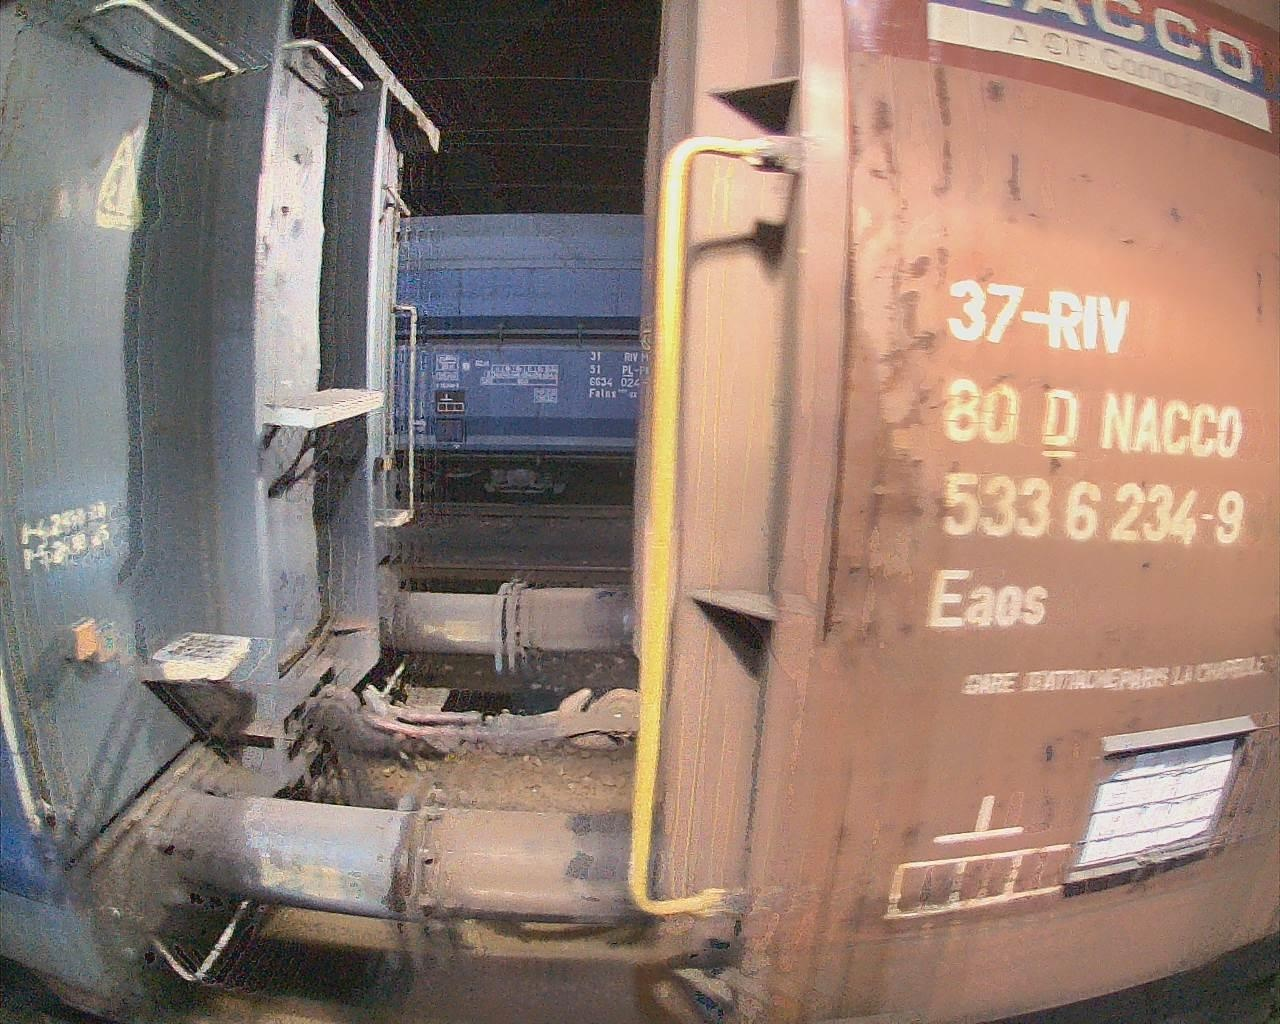UIC: (933, 272, 1280, 651)
